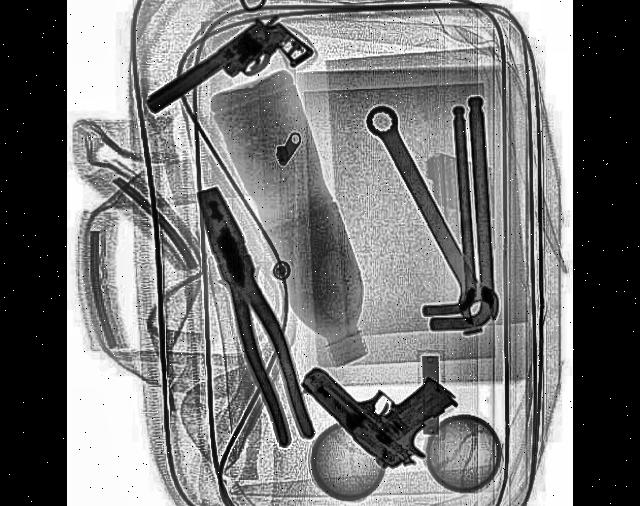Gun: (296, 296, 460, 498), (141, 0, 311, 151)
Pliers: (190, 175, 316, 459)
Wrench: (360, 88, 502, 340)
